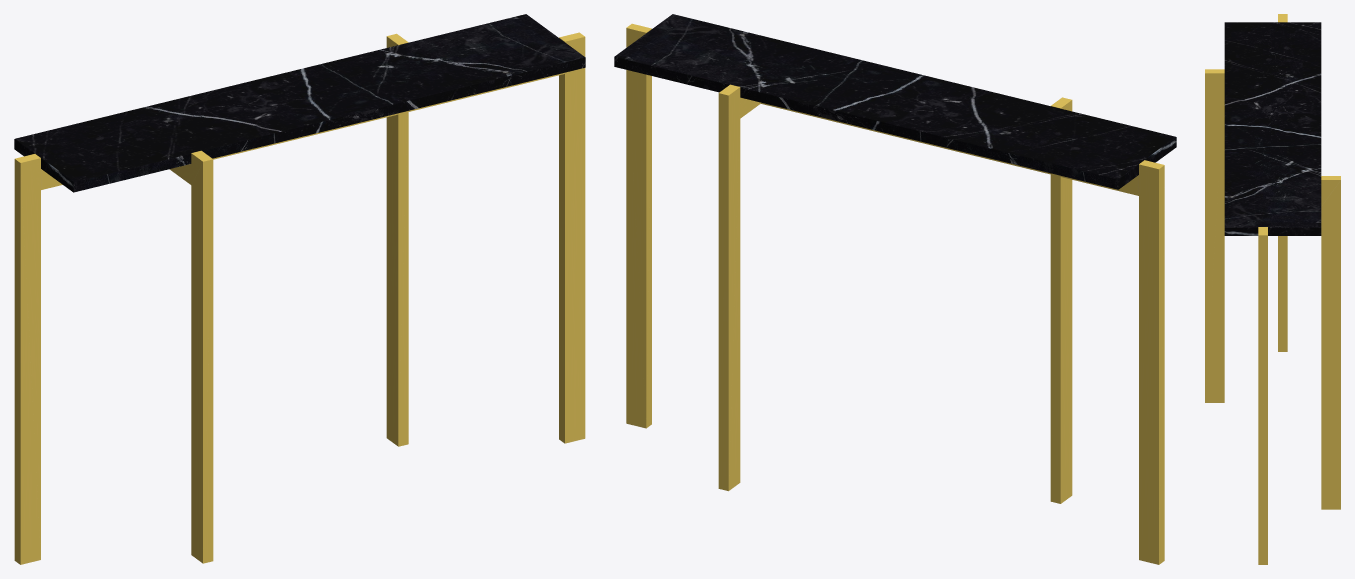
File: Nerod7910a.gltf
3 views of the same model, side by side, from view 1: azimuth 30°, elevation 25°; view 2: azimuth 150°, elevation 25°; view 3: azimuth 270°, elevation 25° (orthographic). The views are drawn at different scales.
Bounding box in the file's own units: 1.08 × 0.75 × 0.28.
2 materials, 2 textured.
